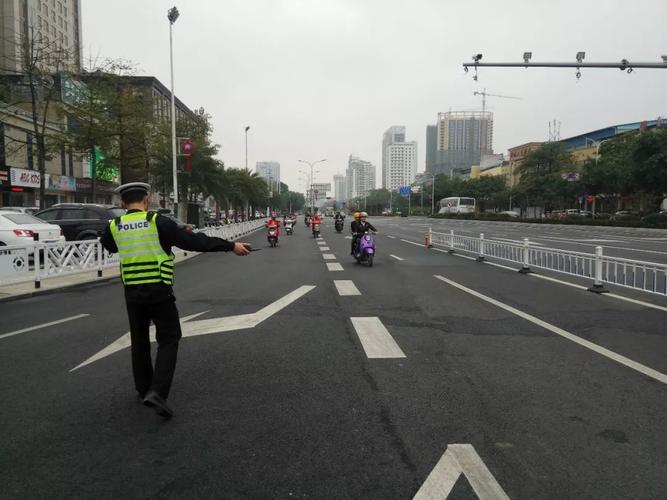bus: (438, 197, 475, 215)
camera: (470, 51, 485, 65)
car: (32, 203, 125, 241), (0, 209, 66, 252), (609, 210, 641, 224)
motorcycle: (352, 231, 377, 267)
person: (99, 181, 253, 416), (350, 212, 378, 259), (265, 214, 281, 246), (309, 213, 322, 235), (285, 213, 297, 235), (334, 212, 345, 232)
sign: (396, 183, 414, 196)
